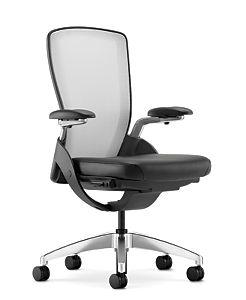chair: (27, 21, 221, 292)
